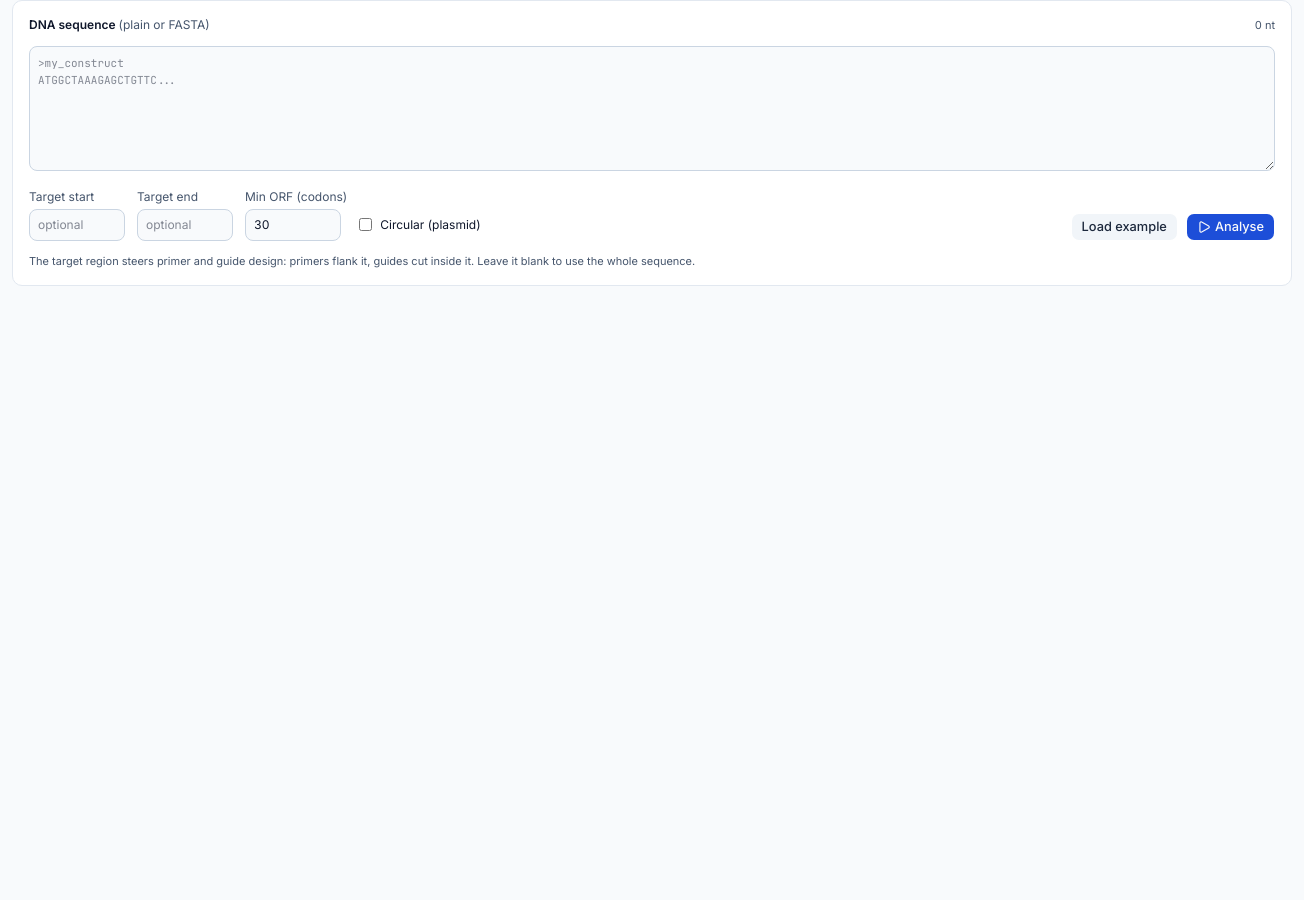
Test: ToolsView › runs all four tools on the example and shows each tab
The image size is (1304, 900).
Click the button "Load example".
click(1124, 227)  # box x1=1070 y1=213 x2=1178 y2=241
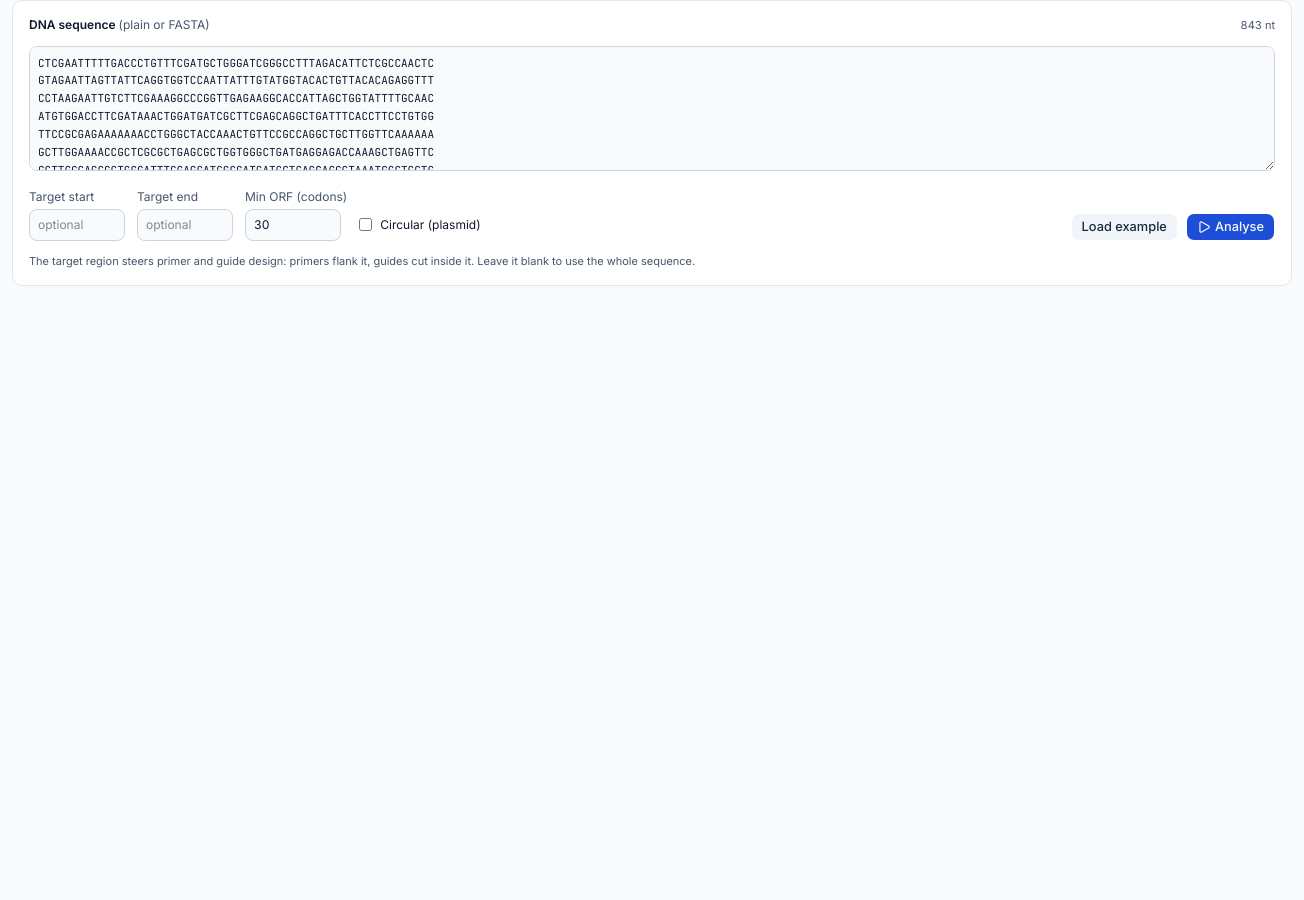
Type "200" into the field labelled "Target start".
click(77, 225); type("200")  # box x1=29 y1=209 x2=125 y2=241
Type "300" into the field labelled "Target end".
click(185, 225); type("300")  # box x1=137 y1=209 x2=233 y2=241
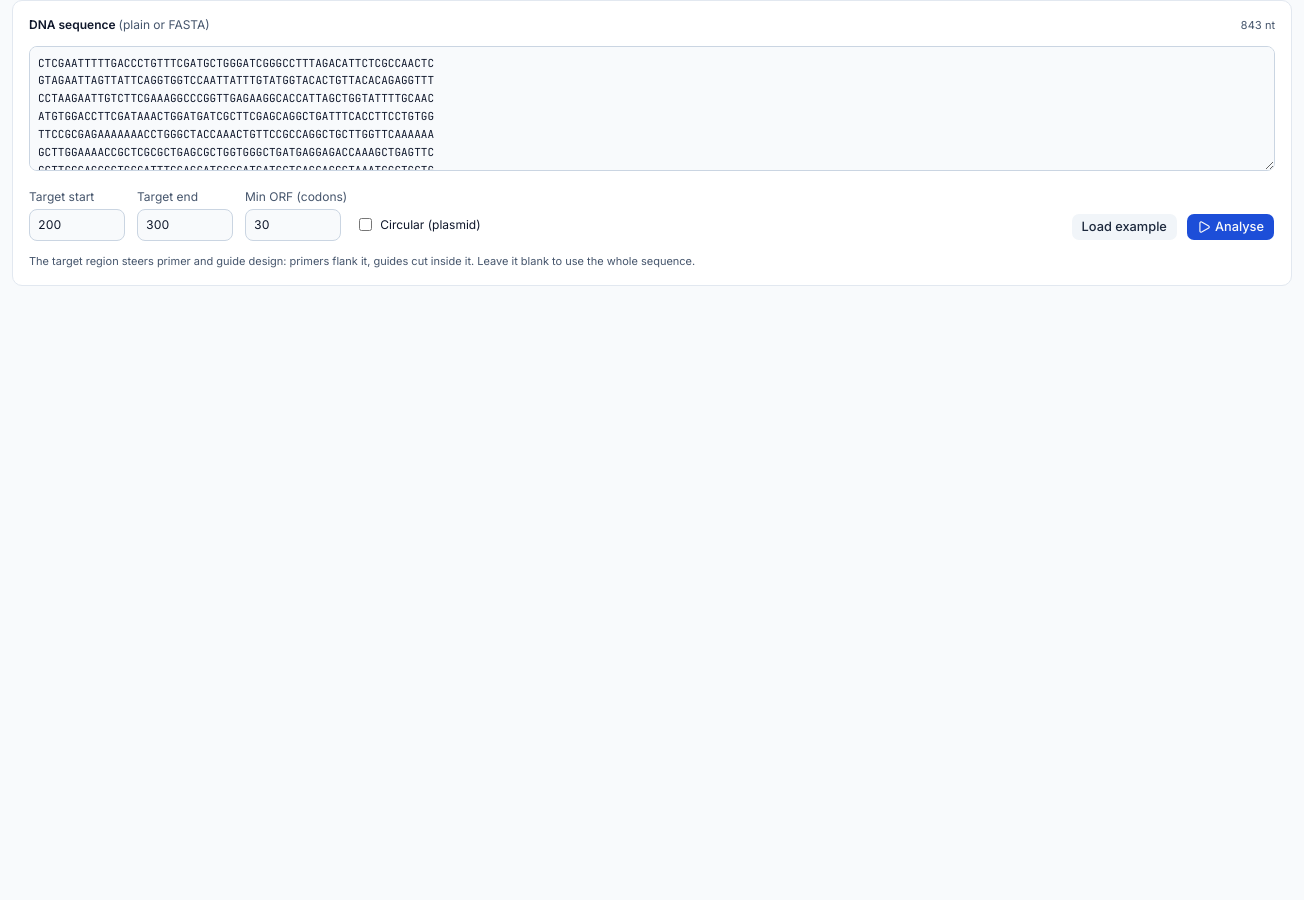
Click the button "Analyse".
click(1230, 227)  # box x1=1186 y1=213 x2=1275 y2=241
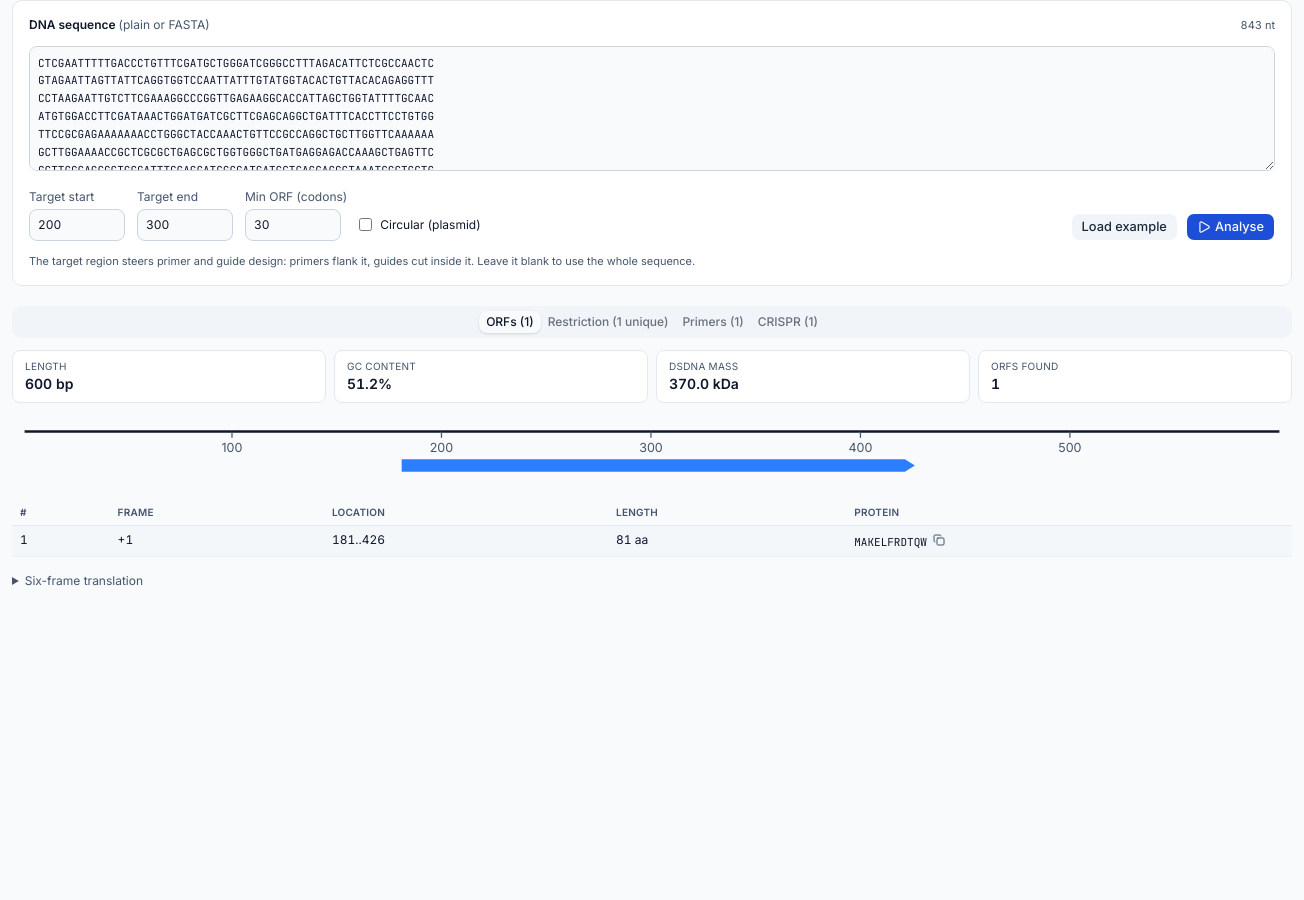
Expected: the tab "ORFs (1)" is shown, x1=479 y1=311 x2=541 y2=333
Expected: the text "181..426" is shown, x1=324 y1=526 x2=608 y2=556
Click the tab "Restriction (1 unique)".
click(608, 322)  # box x1=541 y1=311 x2=675 y2=333
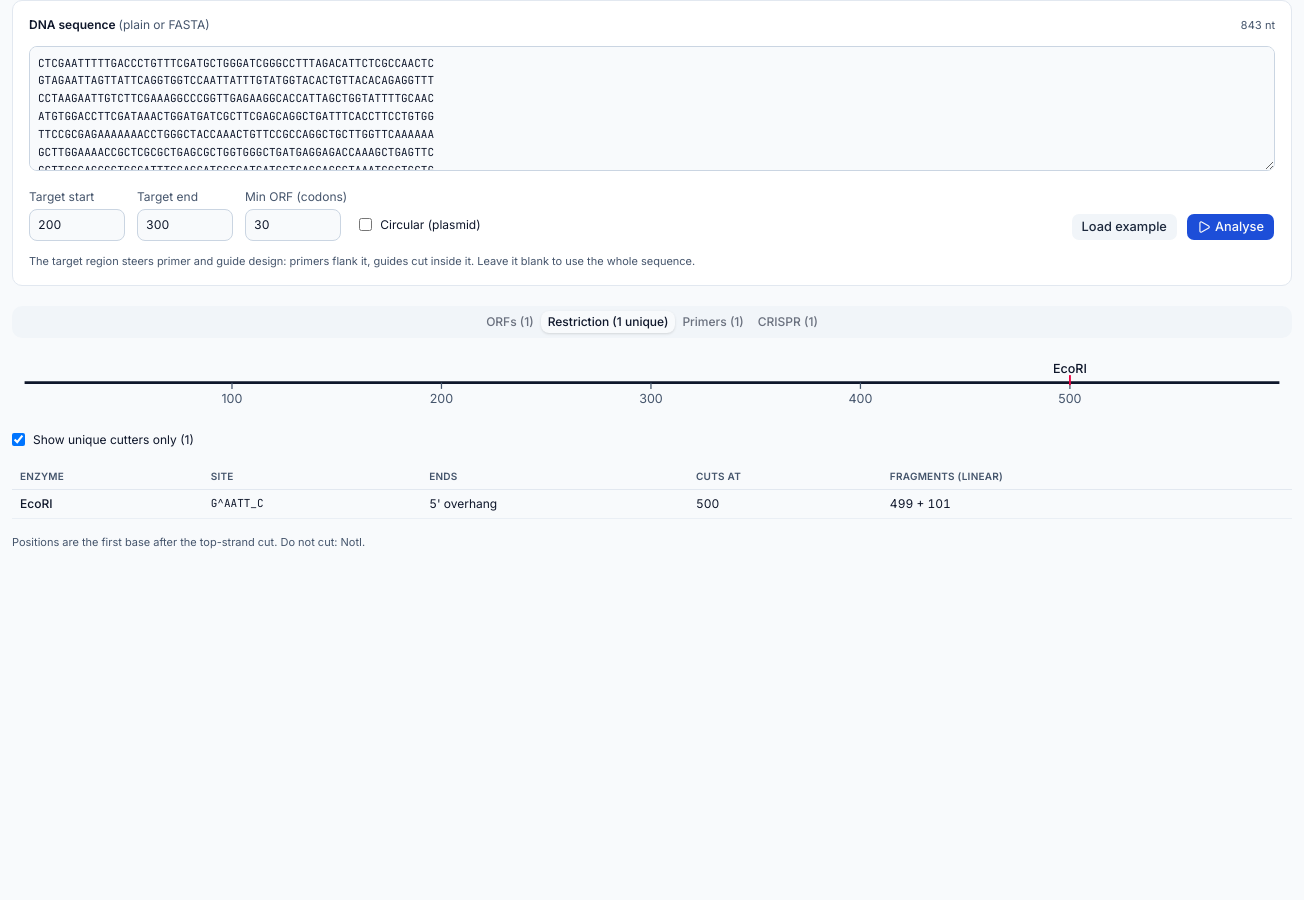
Expected: the text "G^AATT_C" is shown, x1=203 y1=489 x2=421 y2=518
Click the tab "Primers (1)".
click(713, 322)  # box x1=675 y1=311 x2=751 y2=333
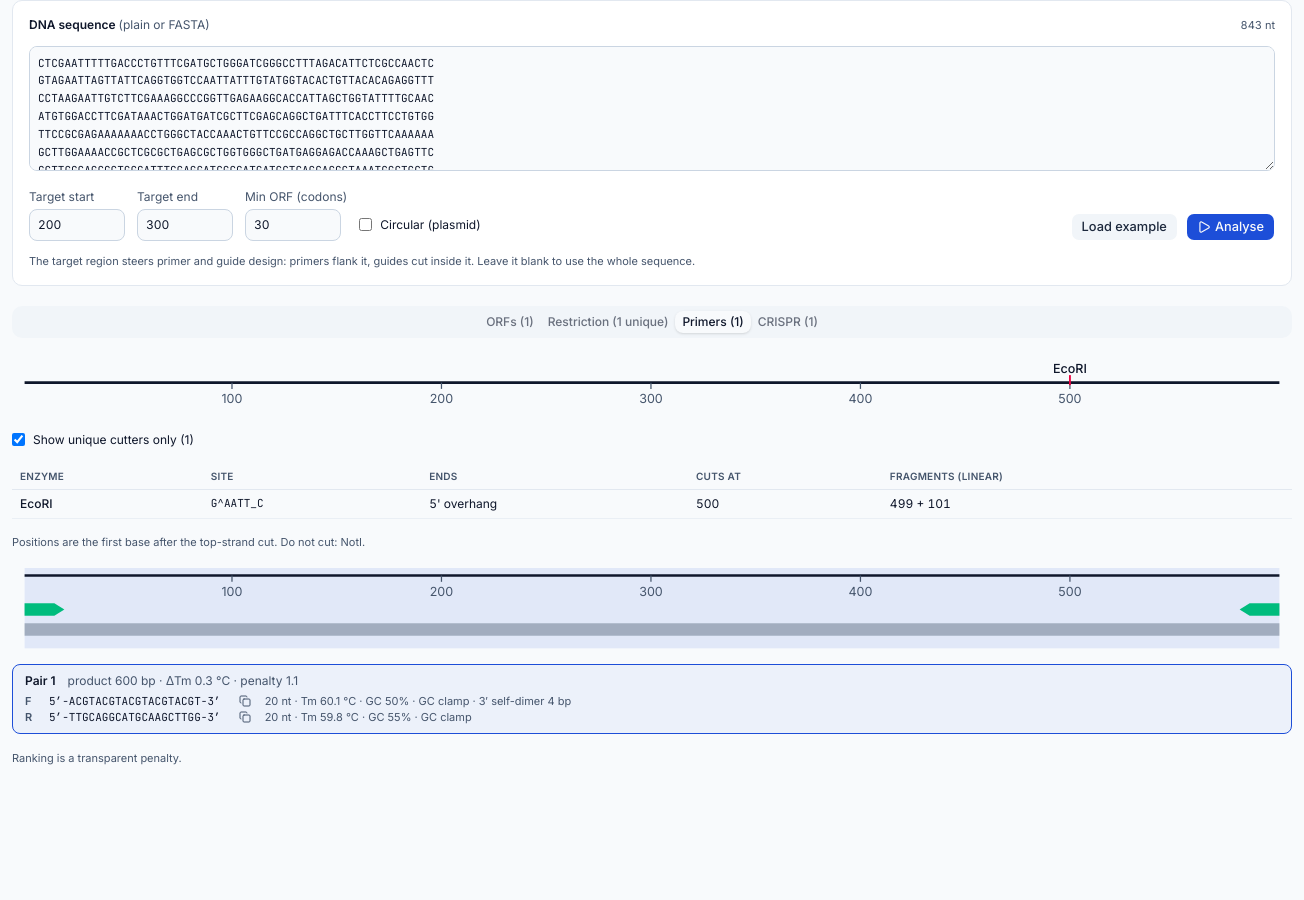
Expected: the text "5′-ACGTACGTACGTACGTACGT-3′" is shown, x1=49 y1=694 x2=221 y2=708
Click the tab "CRISPR (1)".
click(788, 322)  # box x1=751 y1=311 x2=825 y2=333
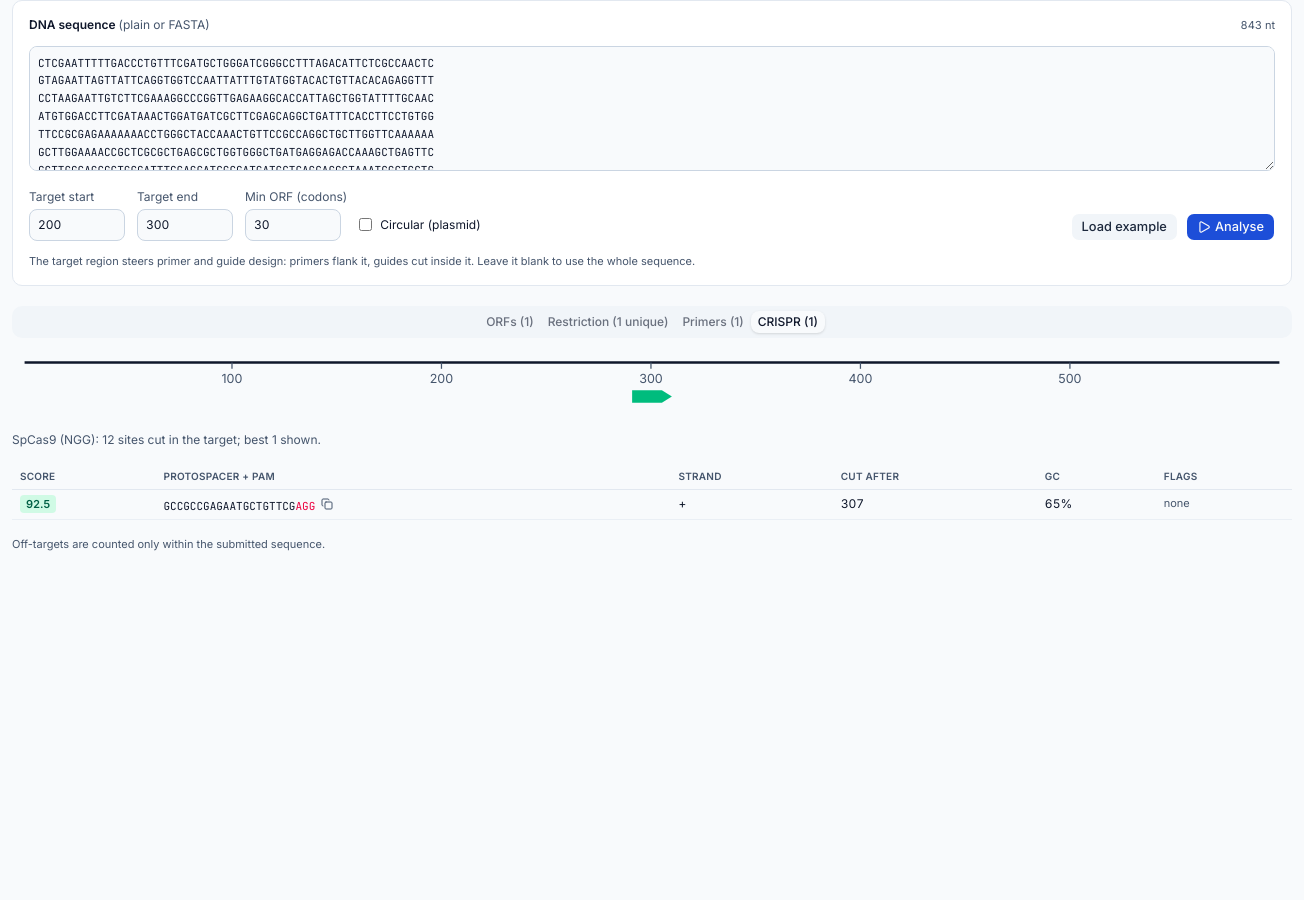
Expected: the text "GCCGCCGAGAATGCTGTTCG" is shown, x1=164 y1=499 x2=296 y2=513
Expected: the text "92.5" is shown, x1=20 y1=495 x2=56 y2=513
